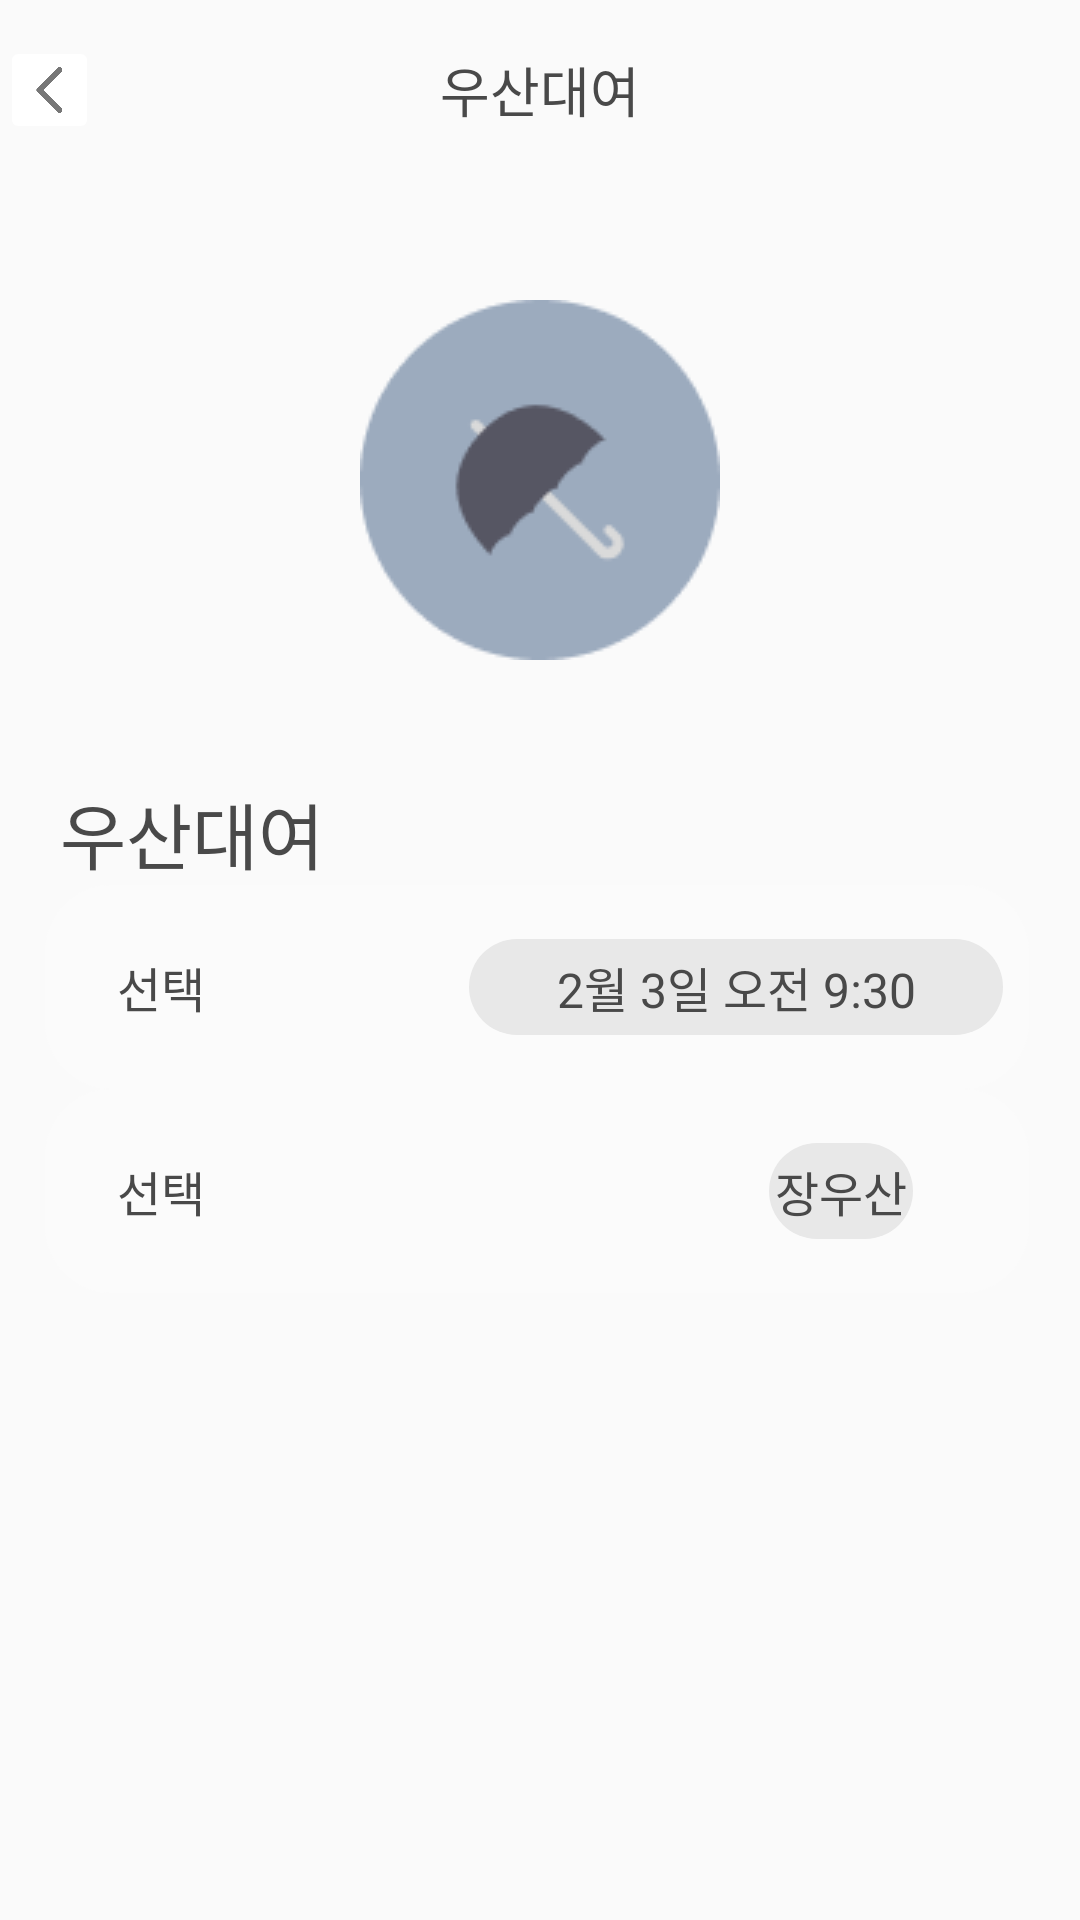

Locate icon controls on the screen. Image size 1080px×1920px, boxes as [left=x1, top=y1, right=x2, bottom=y2].
arrow: [left=36, top=67, right=62, bottom=113]
